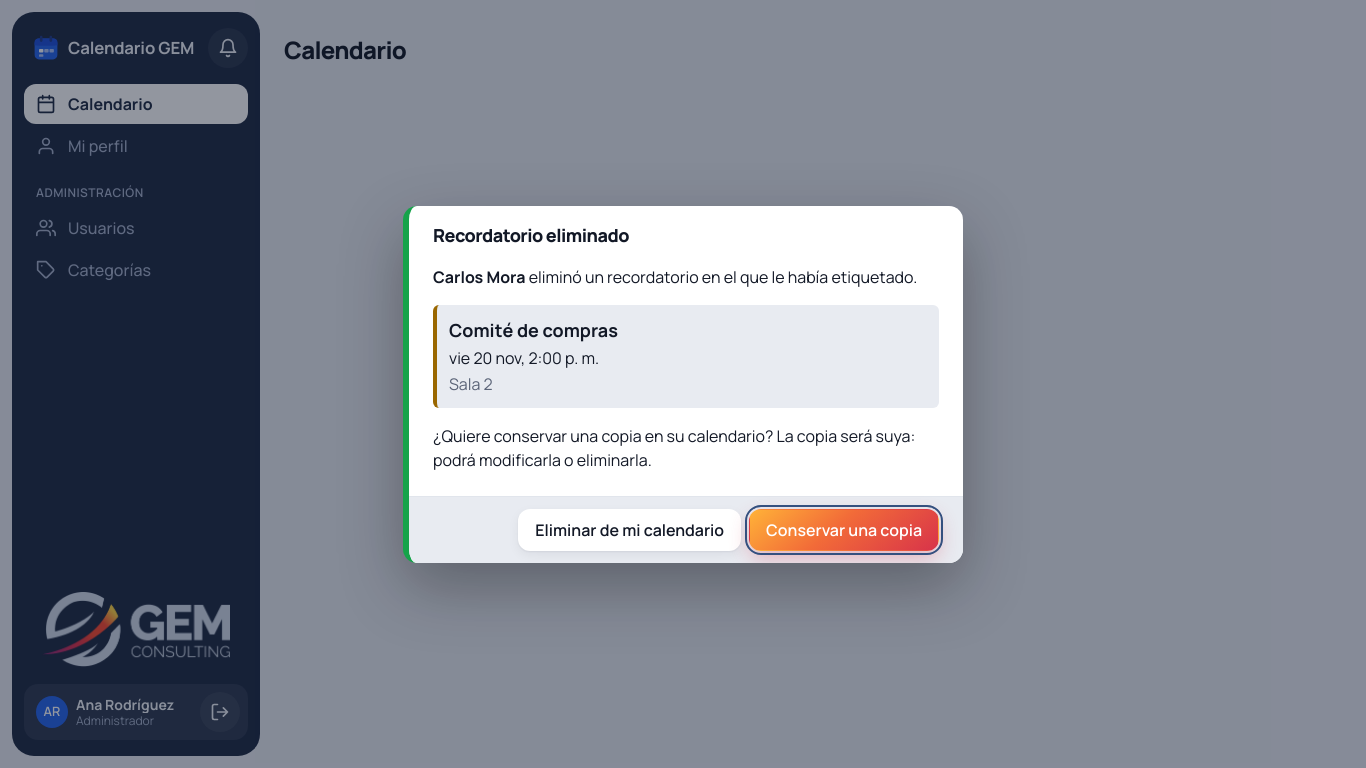
Test: NotificationsProvider y campana › ventana Conservar / Eliminar › si no se puede guardar la decisión, lo indica y la ventana sigue
Click the button "Conservar una copia" at (844, 530), box top-left (749, 508), bottom-right (939, 550)
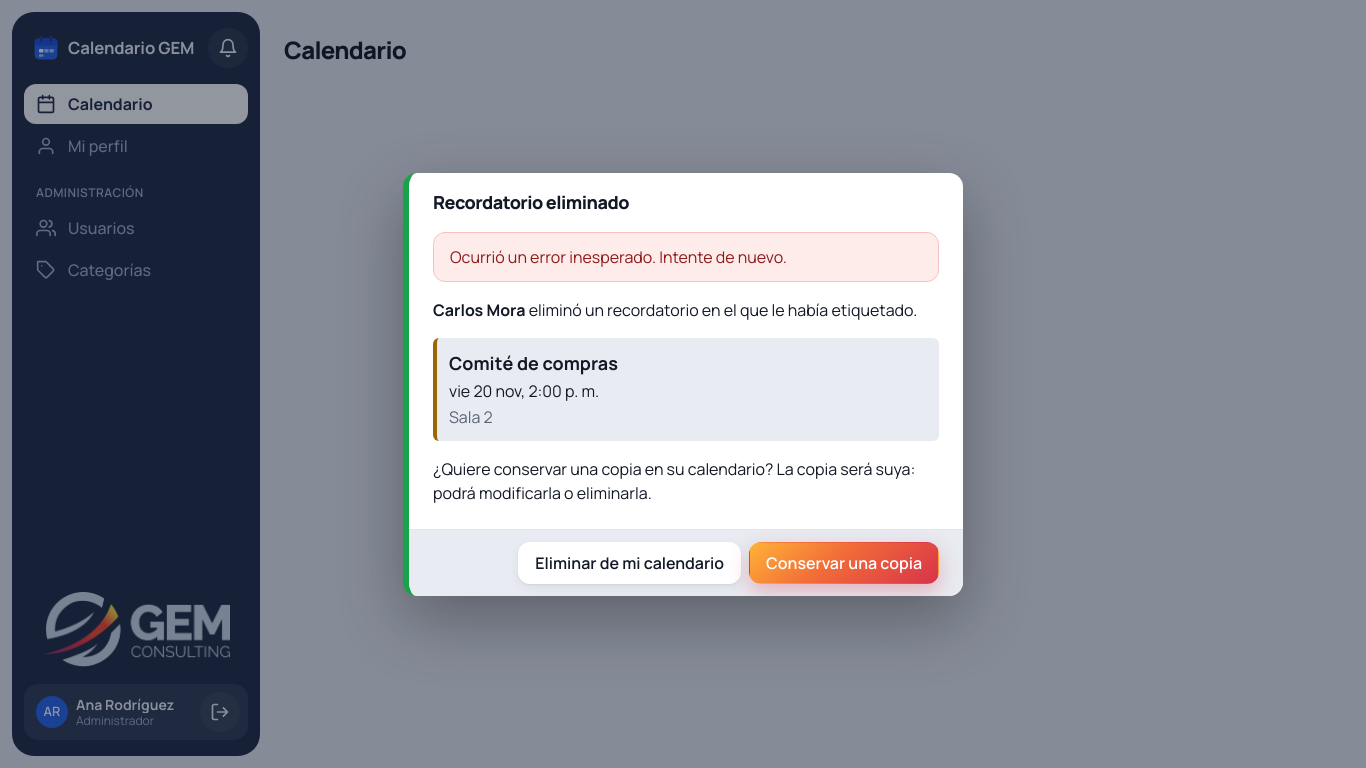
Expected: the button "Conservar una copia" is enabled, top-left (749, 542), bottom-right (939, 584)
Expected: the message "Ocurrió un error inesperado. Intente de nuevo." is shown, top-left (433, 232), bottom-right (939, 282)
